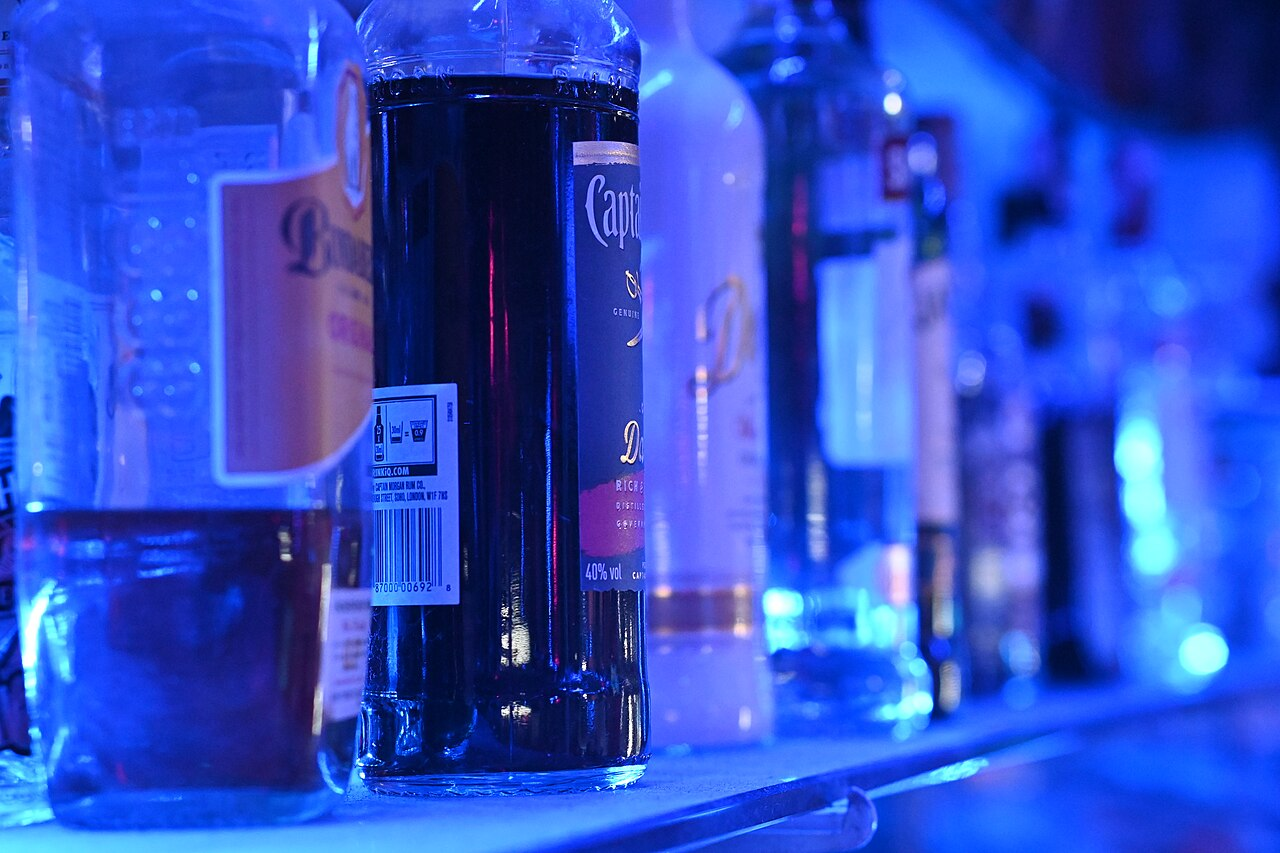unknown_bottle: (3, 2, 377, 830), (354, 2, 651, 803), (715, 6, 937, 746), (621, 2, 776, 758)
